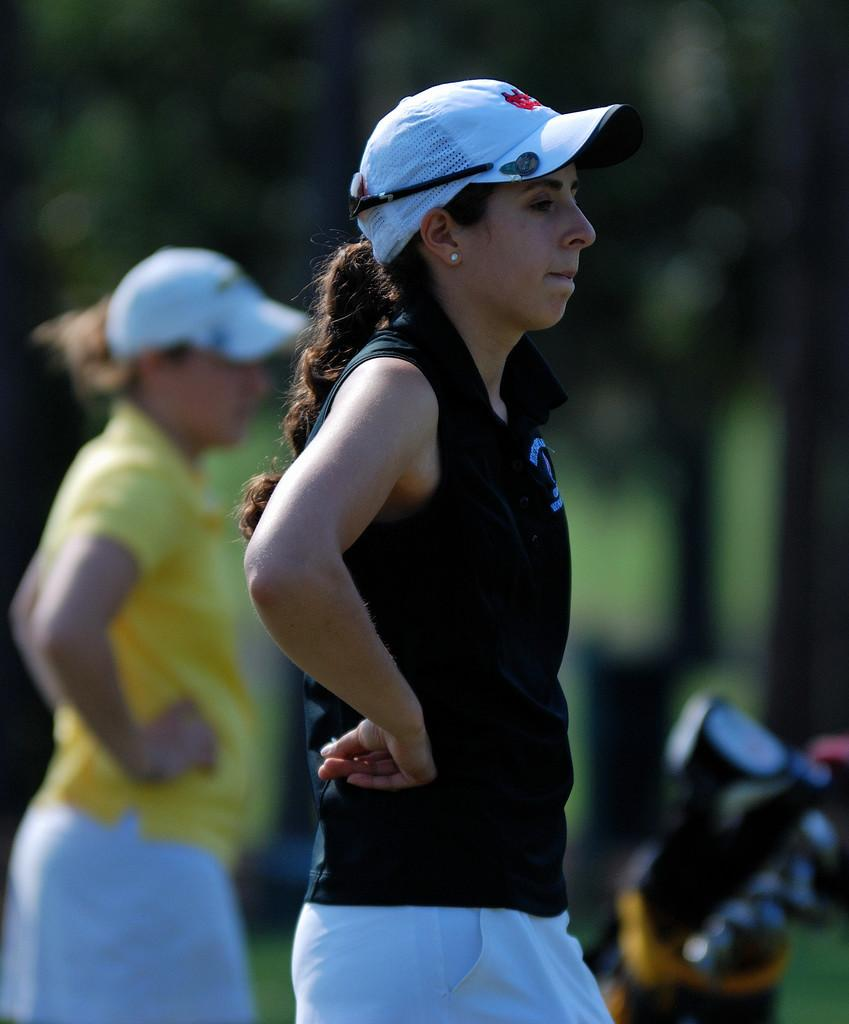Hat: (351, 76, 622, 254), (114, 244, 315, 359)
